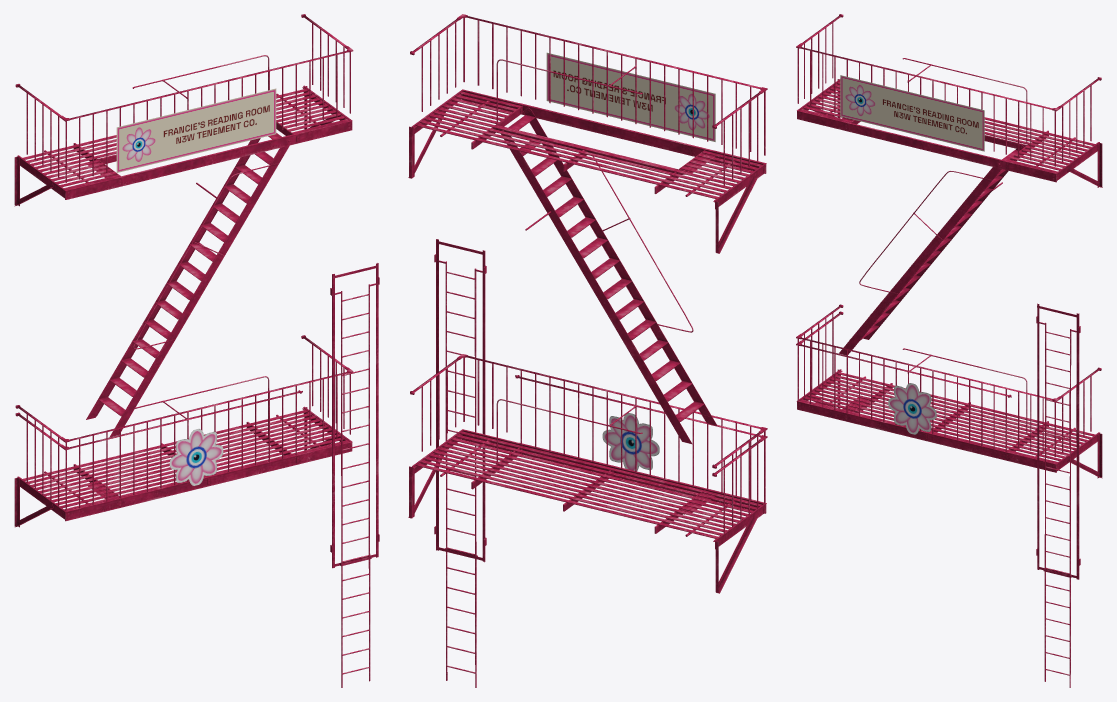
File: nyb_treebrooklyn_fireescape.glb
3 views of the same model, side by side, from view 1: azimuth 30°, elevation 25°; view 2: azimuth 150°, elevation 25°; view 3: azimuth 330°, elevation 25° (orthographic). The views are drawn at different scales.
Parts seen in each view (by area): view 1: modular_fire_escape_railing_middle.2173, add_lbl_f5d3b7edd8.png, add_eyeflower_die.png; view 2: modular_fire_escape_railing_middle.2173, add_lbl_f5d3b7edd8.png, add_eyeflower_die.png; view 3: modular_fire_escape_railing_middle.2173, add_lbl_f5d3b7edd8.png, add_eyeflower_die.png.
Boxes of the visible parts, x1,y1,x2,y2 form: modular_fire_escape_railing_middle.2173: (14,14,379,687); add_lbl_f5d3b7edd8.png: (116,88,276,172); add_eyeflower_die.png: (169,429,223,485); modular_fire_escape_railing_middle.2173: (408,14,767,687); add_lbl_f5d3b7edd8.png: (546,52,715,141); add_eyeflower_die.png: (602,412,659,470); modular_fire_escape_railing_middle.2173: (796,14,1102,687); add_lbl_f5d3b7edd8.png: (840,75,984,151); add_eyeflower_die.png: (888,383,936,434).
Bounding box in the file's own units: 5.16 × 9.88 × 1.42.
Materials: 5 (5 with a texture image).
